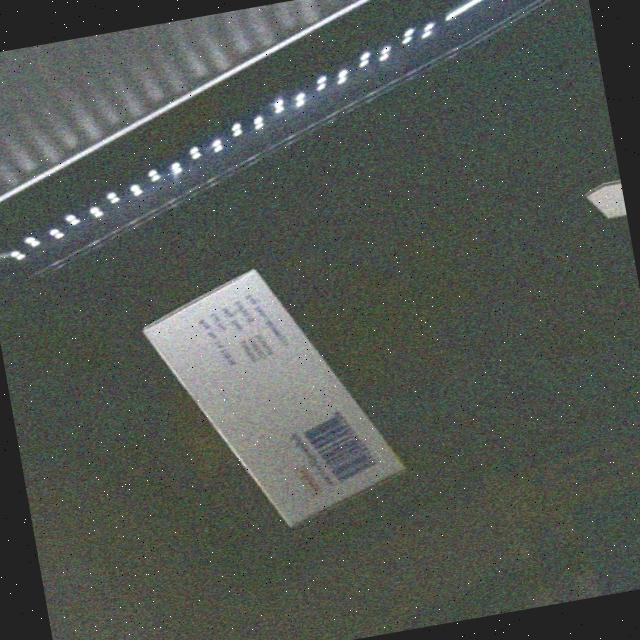sefloc: (141, 254, 405, 542)
